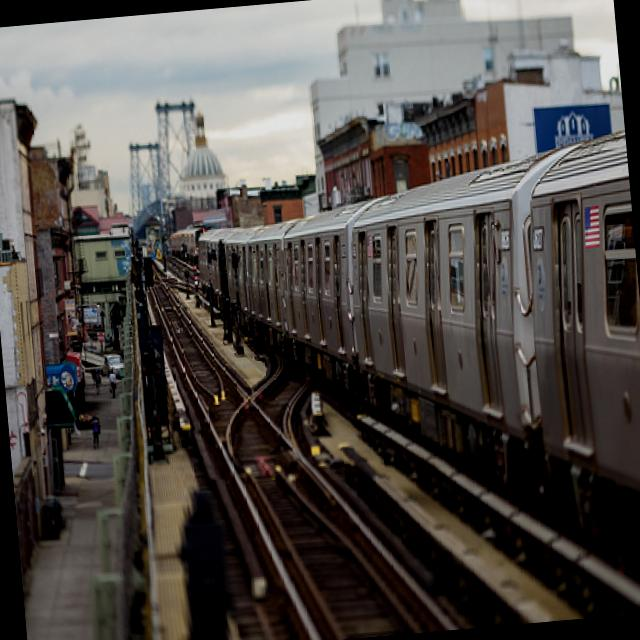Vehicle: (100, 354, 123, 379)
